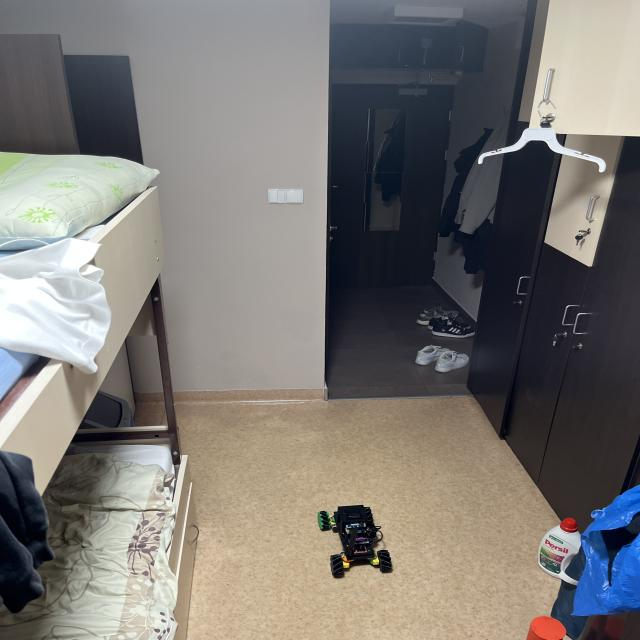robot: (318, 505, 392, 578)
